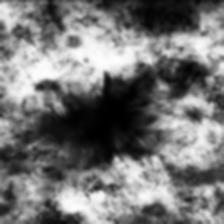Potentially Malignant Skin Tumors: (74, 83, 146, 169)
